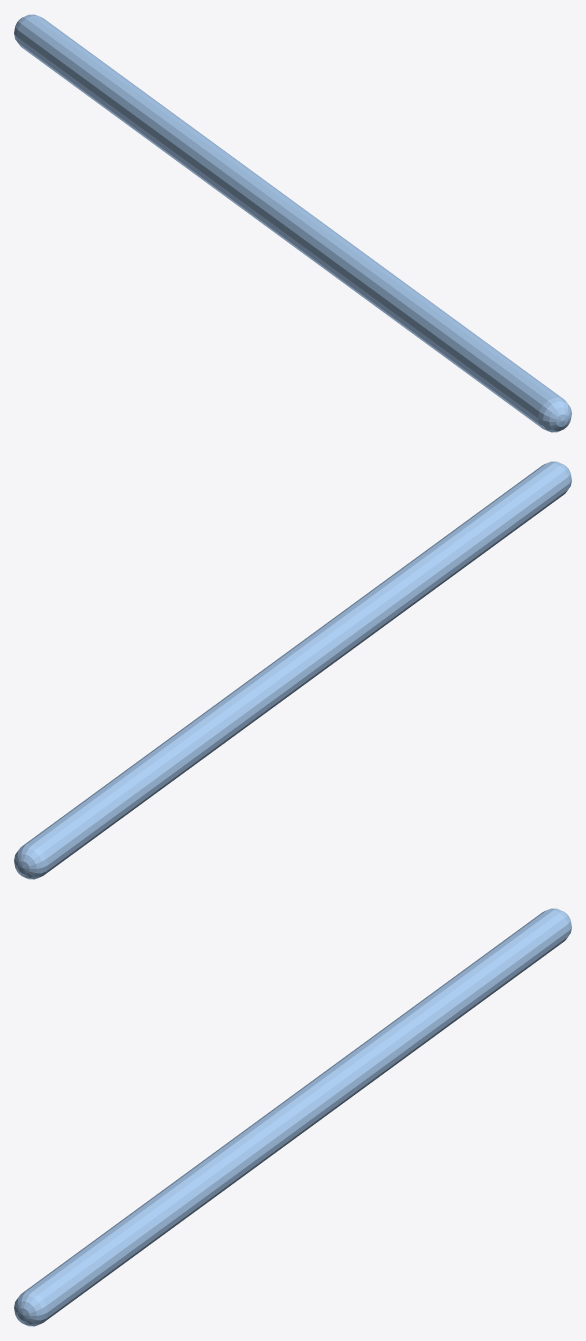
The model's file is TRL_BeamWood_01_A_1024_Physics_Win32.glb.
3 views of the same model, one above another, from view 1: azimuth 30°, elevation 25°; view 2: azimuth 150°, elevation 25°; view 3: azimuth 330°, elevation 25° (orthographic).
Visible parts, largest first — view 1: r0_p0_capsule; view 2: r0_p0_capsule; view 3: r0_p0_capsule.
Boxes of the visible parts, <box> form: r0_p0_capsule: <box>14,14,571,432</box>; r0_p0_capsule: <box>14,461,571,879</box>; r0_p0_capsule: <box>14,908,571,1326</box>.
Bounding box in the file's own units: 0.3488 × 0.3488 × 10.32.
